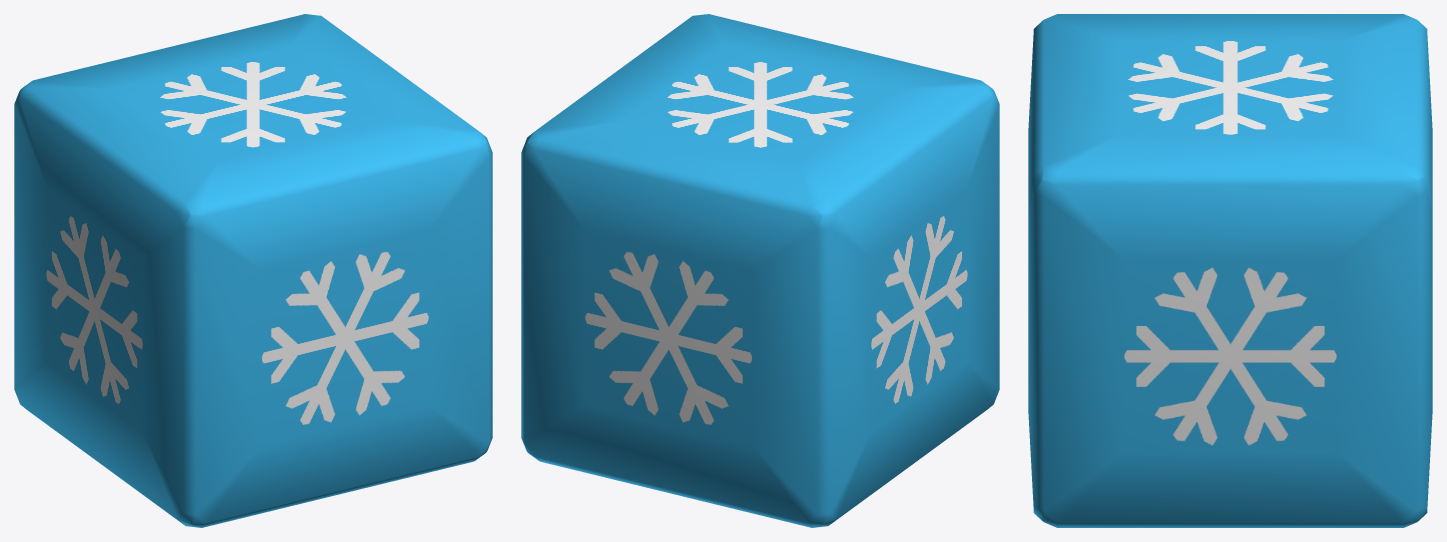
Rendered from Frozen.fbx.
The picture shows the model from 3 angles, left to right: view 1: azimuth 30°, elevation 25°; view 2: azimuth 150°, elevation 25°; view 3: azimuth 270°, elevation 25°; orthographic projection. The views are drawn at different scales.
Parts seen in each view (by area): view 1: Cube; view 2: Cube; view 3: Cube.
Part boxes in pixels (bbox=[...]): Cube: bbox=[14, 14, 492, 527]; Cube: bbox=[521, 14, 999, 527]; Cube: bbox=[1028, 14, 1432, 527].
Bounding box in the file's own units: 90 × 90 × 90.
1 material, 1 textured.
